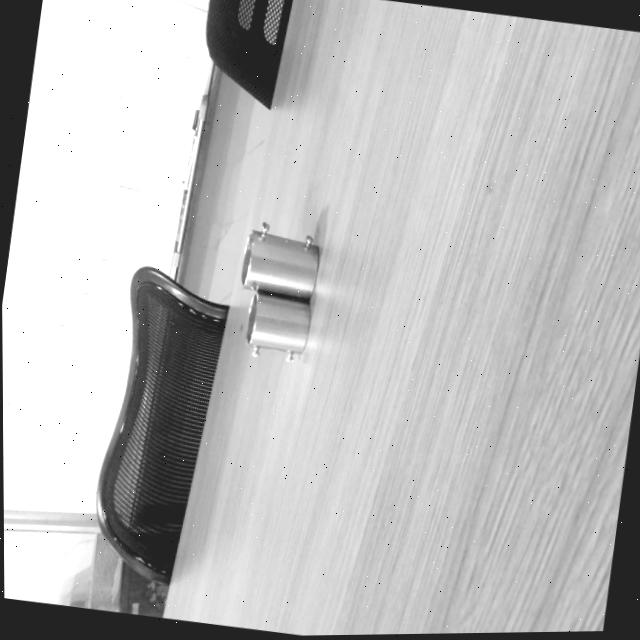Co_Lon: (236, 220, 324, 302)
Co_Nho: (240, 288, 313, 369)
